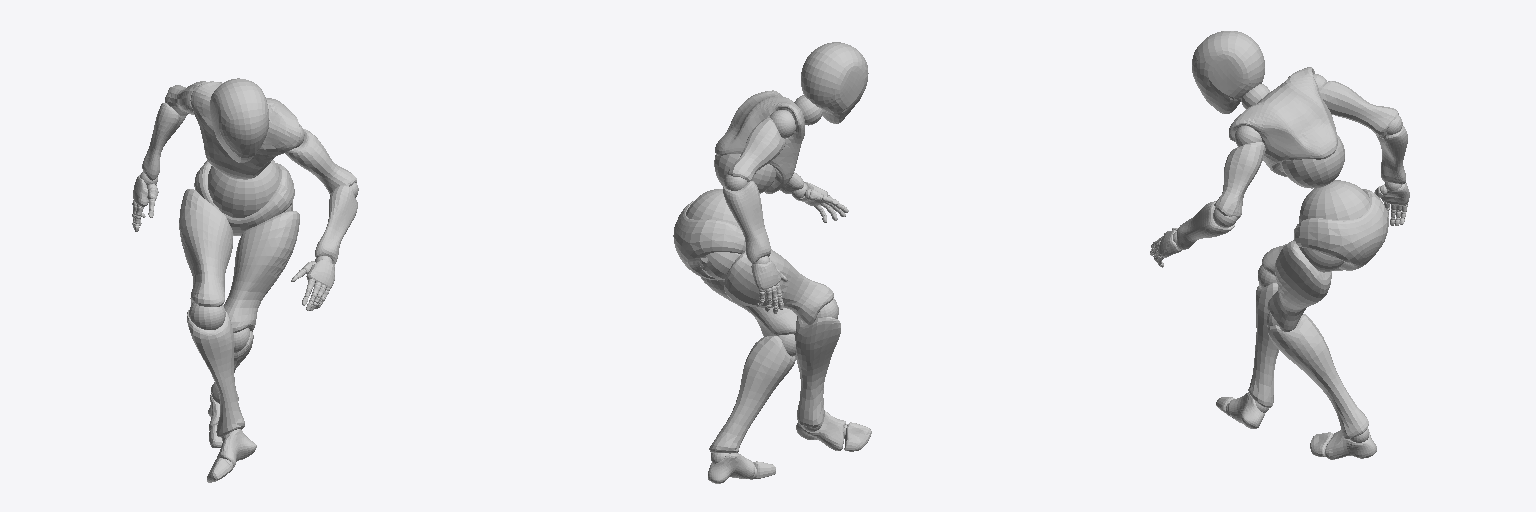
3 views of the same model, side by side, from view 1: azimuth 30°, elevation 25°; view 2: azimuth 150°, elevation 25°; view 3: azimuth 270°, elevation 25° (orthographic).
Visible parts, largest first — view 1: Beta_Surface, Beta_Joints; view 2: Beta_Surface, Beta_Joints; view 3: Beta_Surface, Beta_Joints.
Boxes of the visible parts, <box> form: Beta_Surface: <box>132,78,357,482</box>; Beta_Joints: <box>132,95,358,469</box>; Beta_Surface: <box>673,42,871,483</box>; Beta_Joints: <box>686,95,847,479</box>; Beta_Surface: <box>1150,31,1409,459</box>; Beta_Joints: <box>1151,74,1407,442</box>.
Size of the model in its own units: 0.566 by 1.48 by 0.8584.